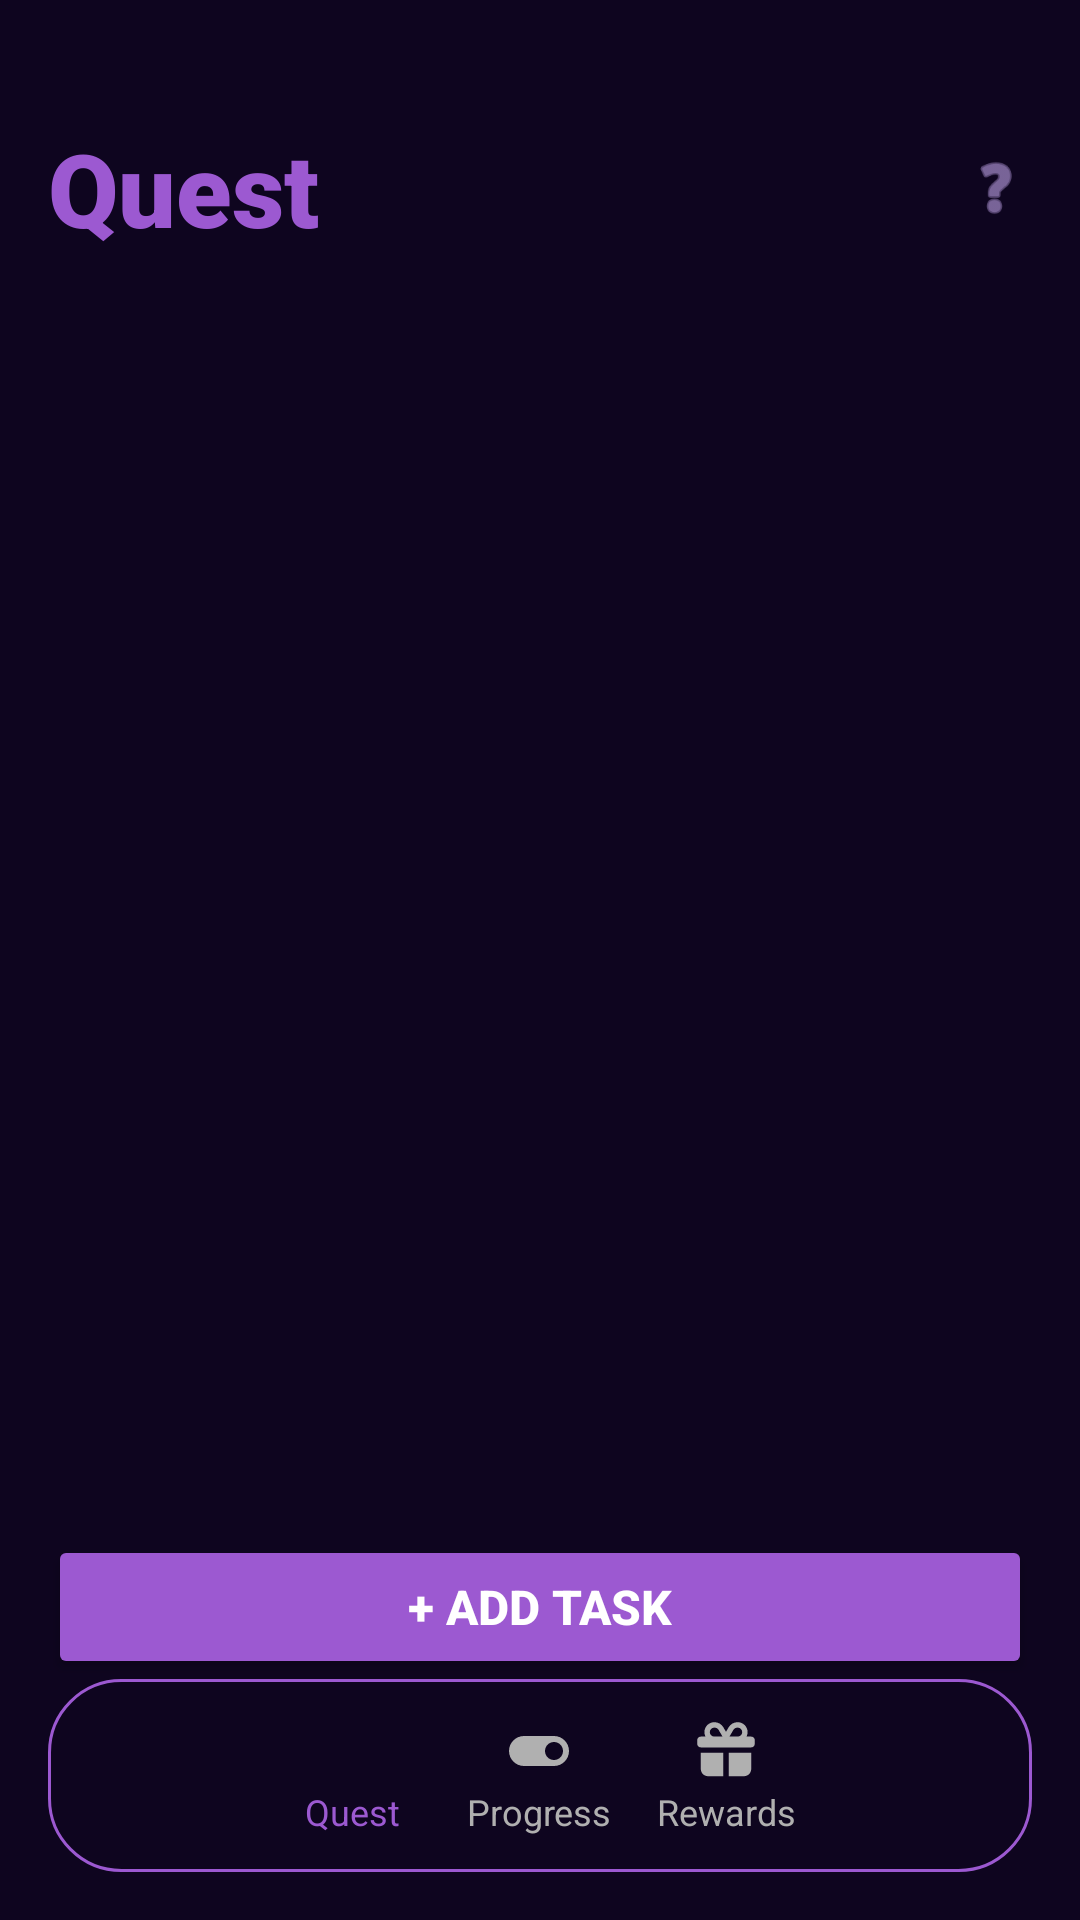

Locate icon controls on the screen. Image size 1080 × 1920, boxes as (x1, y1, x2, y2).
gift: (697, 1722, 755, 1777)
help: (980, 162, 1012, 214)
